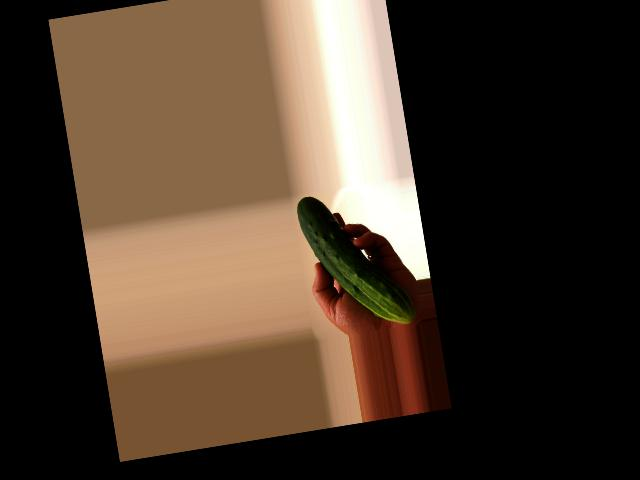cucumber: (295, 182, 417, 337)
